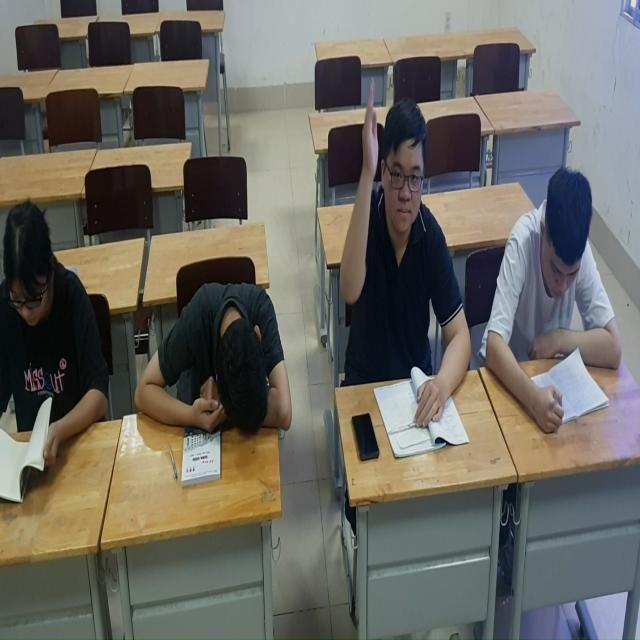raise_hand: (337, 78, 475, 444)
read: (486, 156, 635, 438), (1, 204, 128, 502)
sleep: (139, 269, 296, 468)
